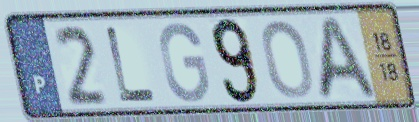2: (51, 22, 111, 109)
9: (208, 15, 262, 106)
A: (315, 13, 382, 104)
G: (156, 19, 212, 105)
L: (103, 23, 160, 104)
O: (259, 17, 316, 101)
